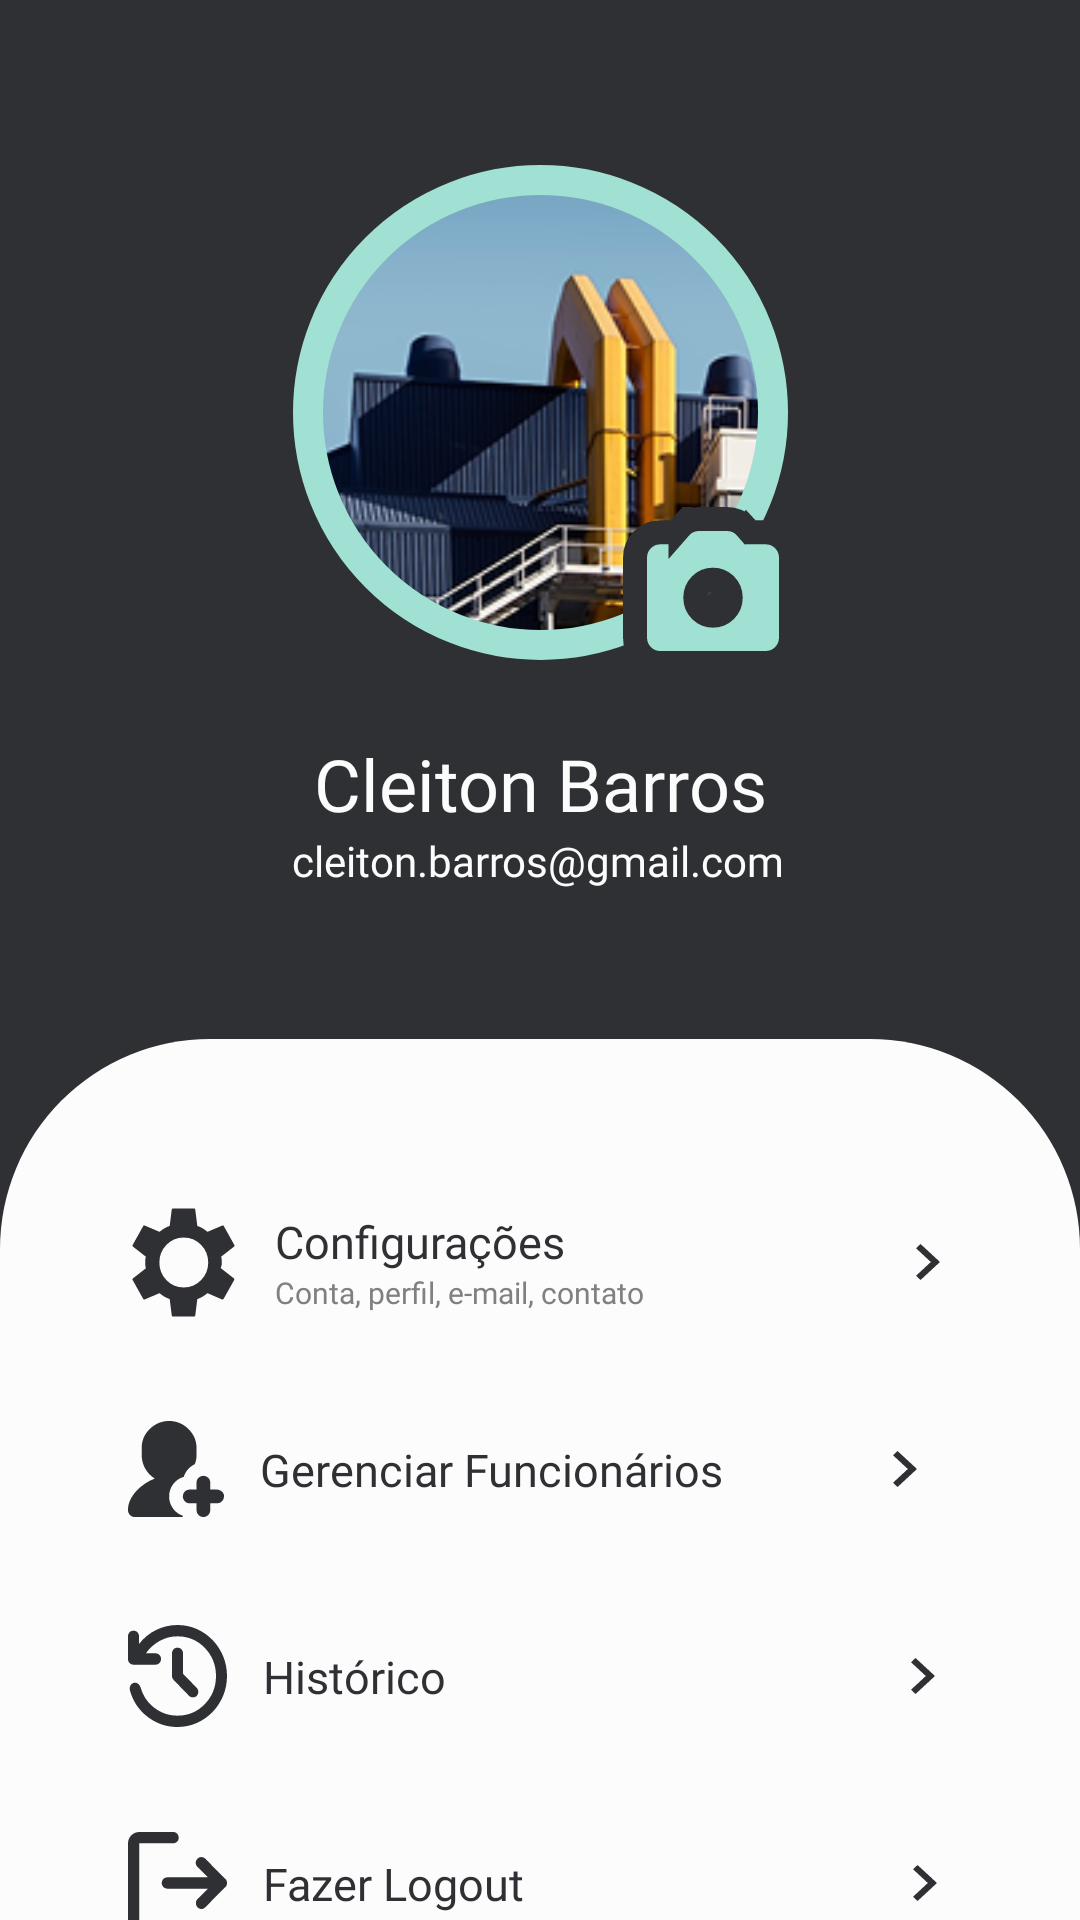

Icons on this 1080 x 1920 Android screen, each with its box as [x1, y1, x2, y2]:
configuracao: [132, 1208, 235, 1317]
funcionario: [128, 1421, 224, 1517]
historico: [128, 1625, 227, 1727]
seta: [916, 1244, 940, 1280], [893, 1451, 917, 1487], [911, 1658, 935, 1694], [913, 1865, 937, 1901]
